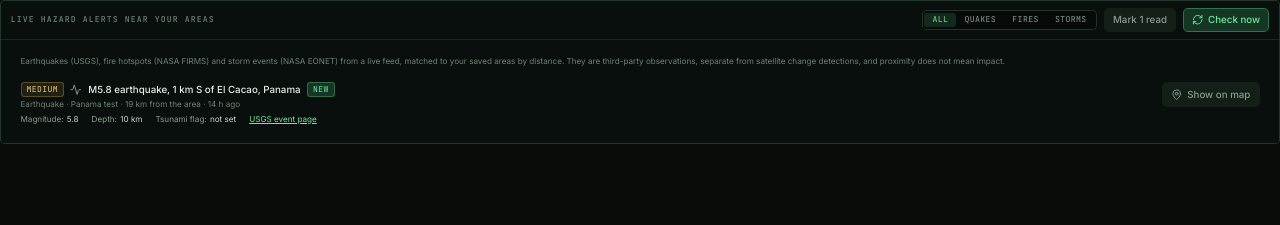
Scenario: HazardAlertsSection › marks everything read and shows an honest empty state with what was reviewed
Click the button "Mark 1 read".
click(1140, 20)  # box x1=1104 y1=8 x2=1176 y2=32
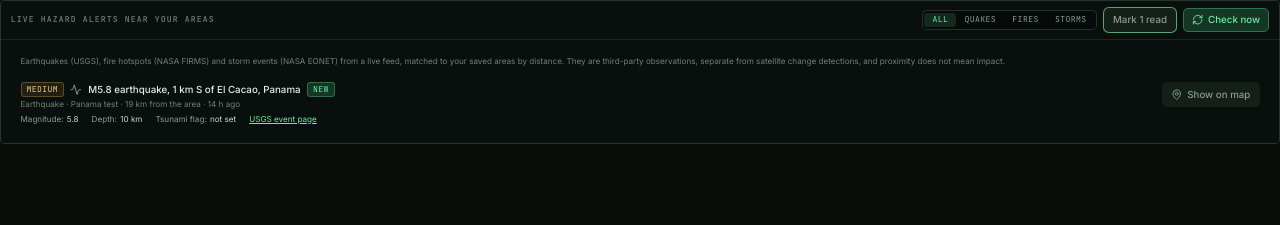
Click the button "Check now".
click(1226, 20)  # box x1=1183 y1=8 x2=1269 y2=32
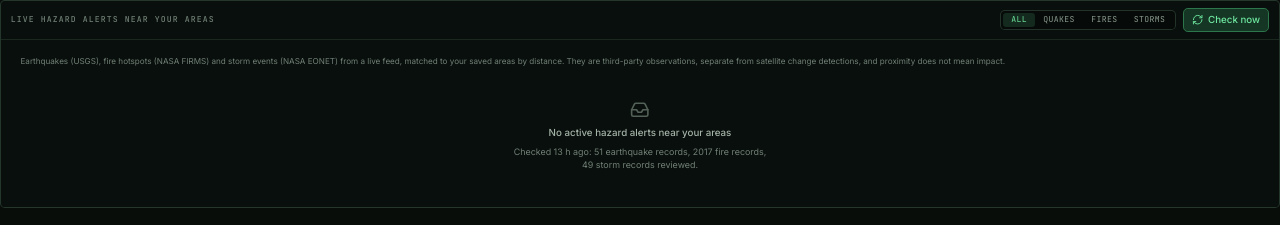
Expected: the text "No active hazard alerts near your areas" is shown, x1=549 y1=126 x2=731 y2=139
Expected: the text "2017 fire records" is shown, x1=514 y1=146 x2=766 y2=170
